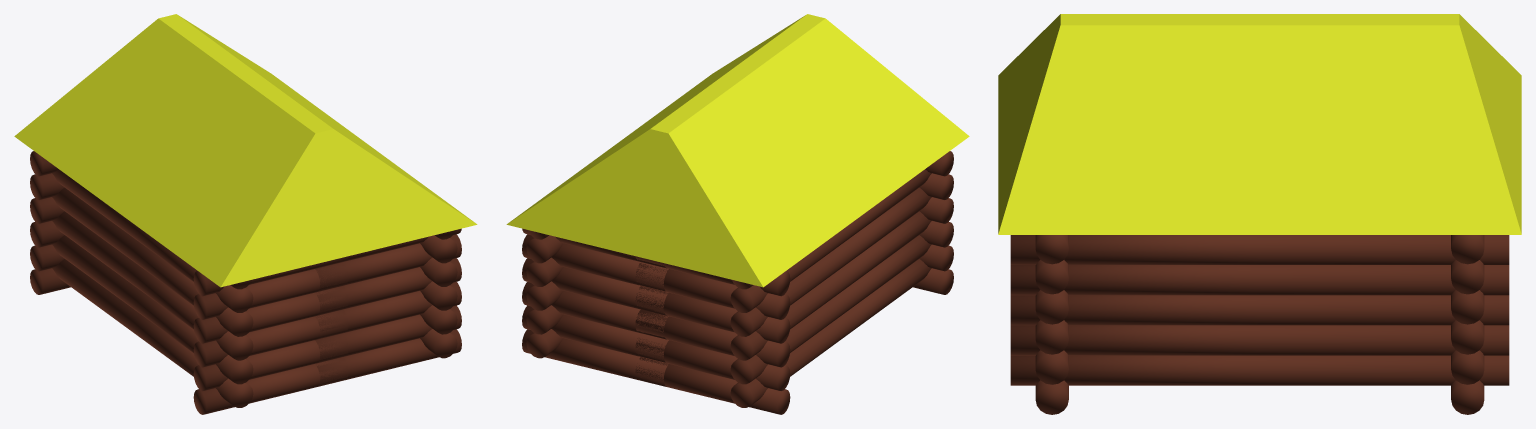
File: hut02.fbx
The picture shows the model from 3 angles, left to right: view 1: azimuth 30°, elevation 25°; view 2: azimuth 150°, elevation 25°; view 3: azimuth 270°, elevation 25°; orthographic projection. The views are drawn at different scales.
Visible parts, largest first — view 1: Hut; view 2: Hut; view 3: Hut.
Part boxes in pixels (left/top/right/bottom): Hut: left=14, top=14, right=477, bottom=414; Hut: left=506, top=14, right=969, bottom=414; Hut: left=998, top=14, right=1521, bottom=414.
Bounding box in the file's own units: 6.3 × 4.54 × 4.2.
